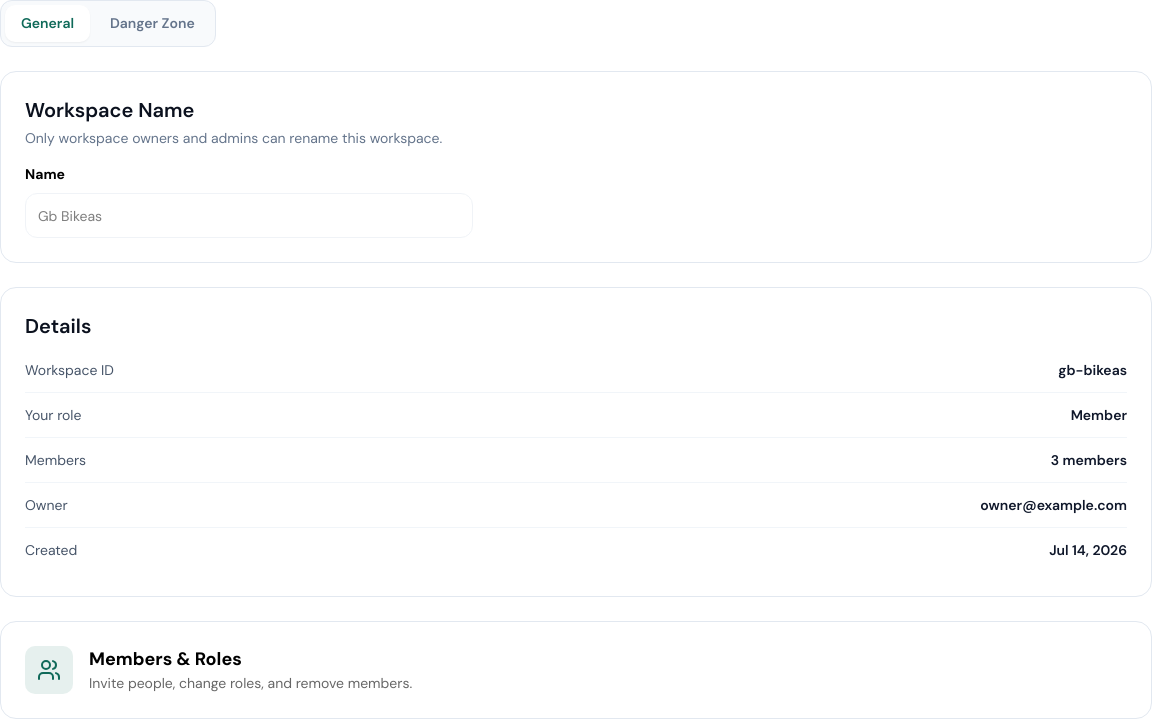
it: danger zone › offers leave to a member but not delete
Step 1. Click the tab "Danger Zone" → x=152, y=24, box [94, 5, 211, 42]
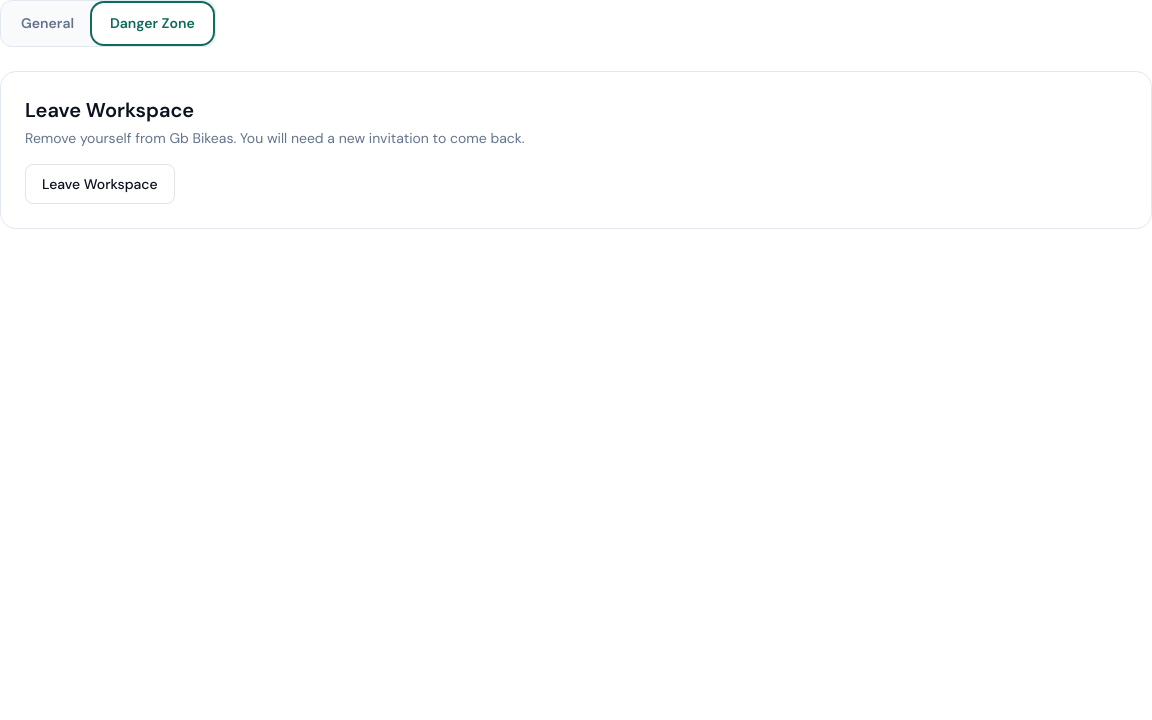
Expected: the button "Leave Workspace" is shown, [25, 164, 175, 204]
